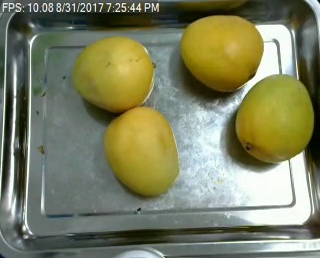Mango: (235, 72, 314, 164), (102, 106, 180, 194), (71, 35, 156, 114), (179, 15, 265, 92)
